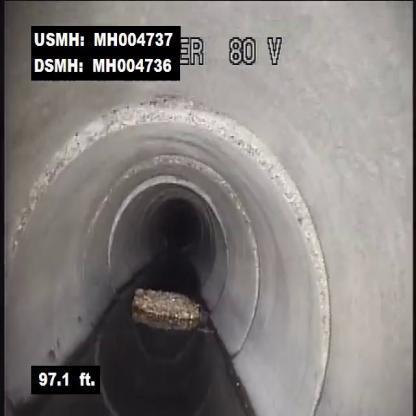Obstacle: (127, 275, 212, 343)
